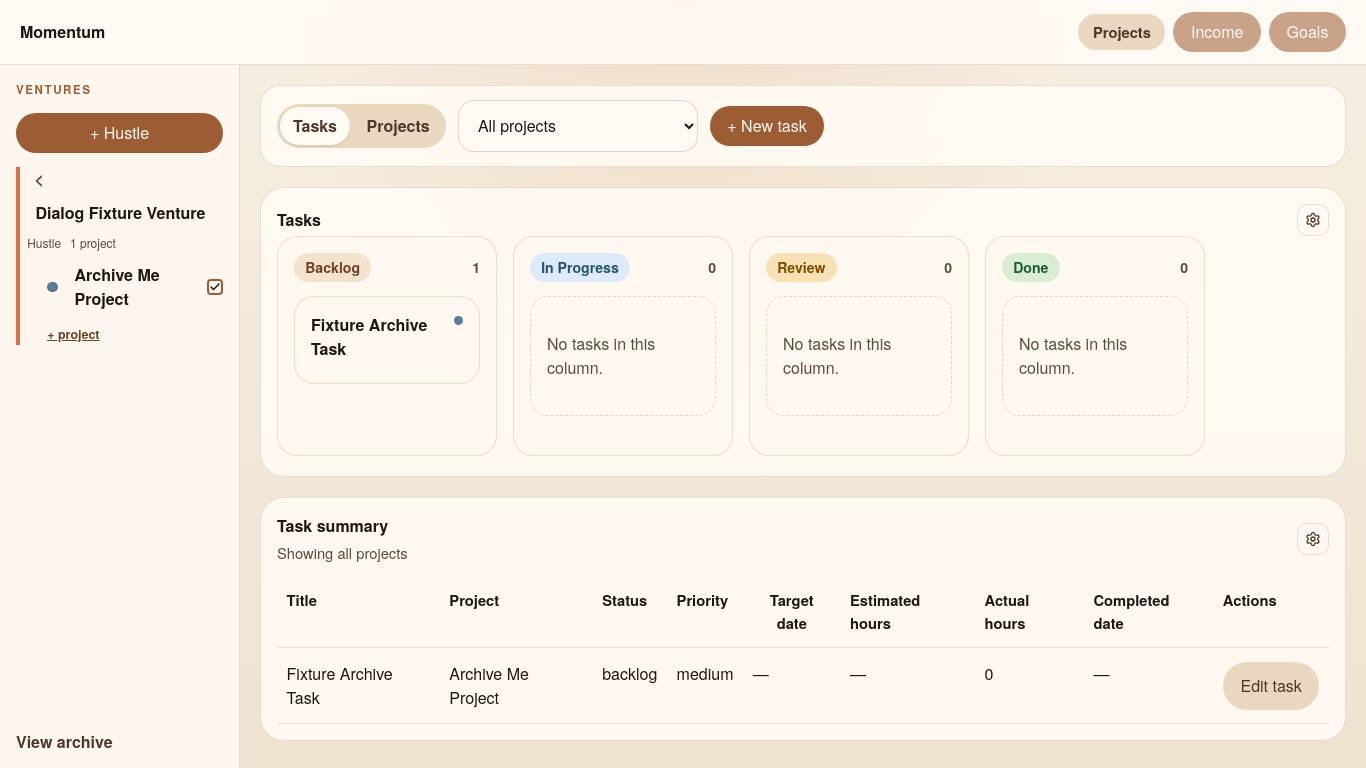
Test: Workspace dialogs (integration) › archives task via Edit task dialog Archive control
Click the button with test id "kanban-task-title" at (380, 337), box [311,313,449,361]
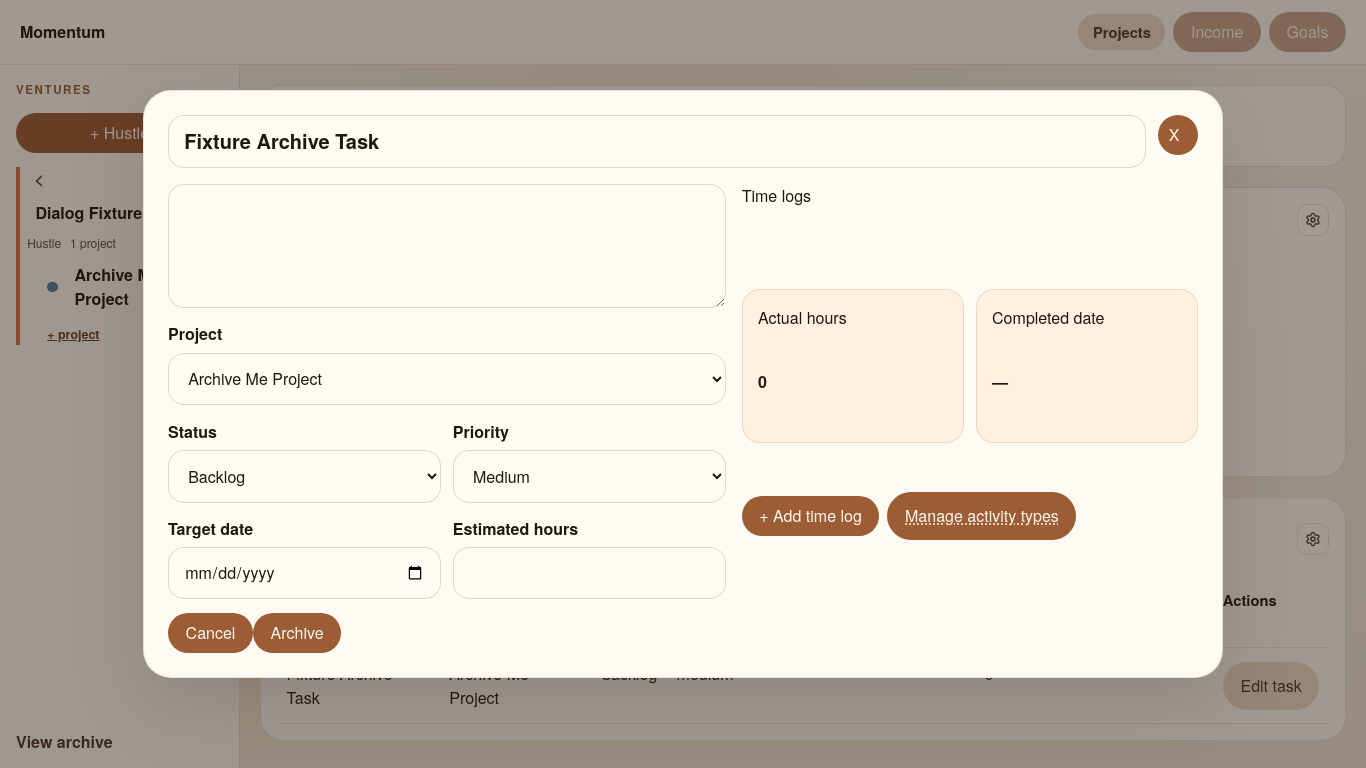
Click the button "Archive" at (297, 633), box [253,613,341,653]
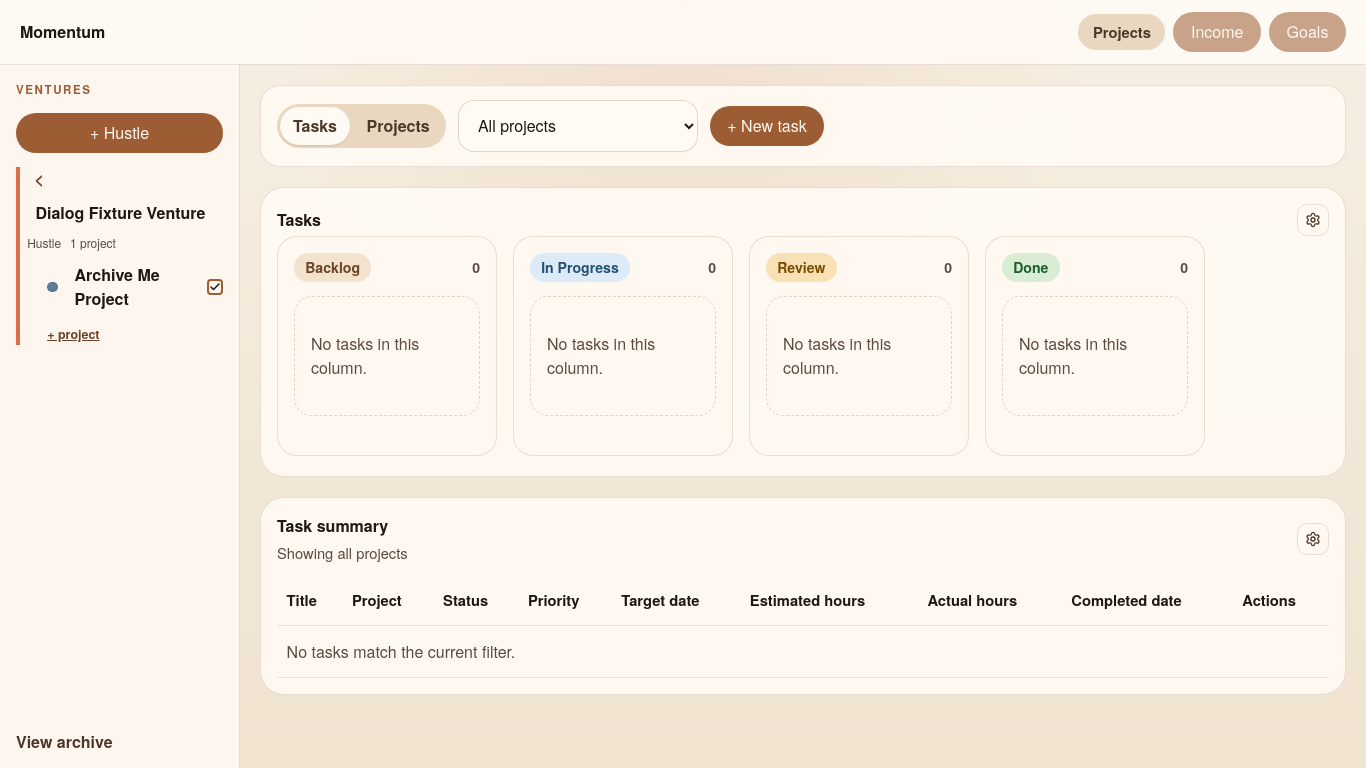
Expected: the button "Edit task" is gone
Expected: the button with test id "kanban-task-title" is gone
